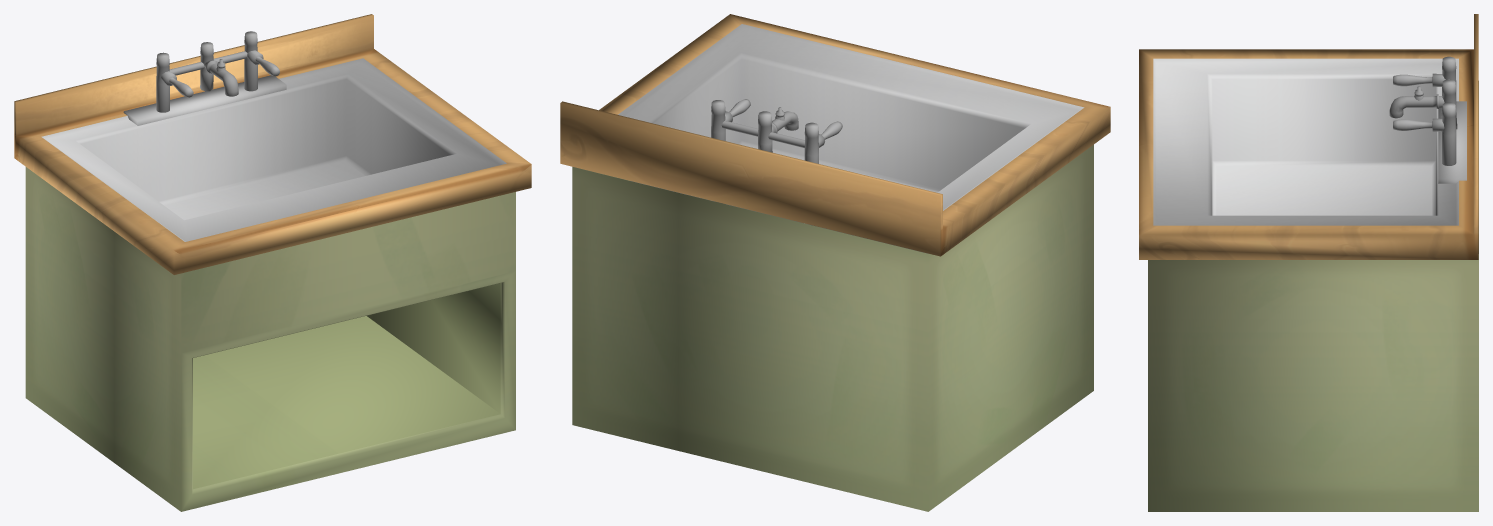
The model's file is CounterSink.fbx.
3 renders of one model, left to right at view 1: azimuth 30°, elevation 25°; view 2: azimuth 150°, elevation 25°; view 3: azimuth 270°, elevation 25°, orthographic. The views are drawn at different scales.
Visible parts, largest first — view 1: CounterSink; view 2: CounterSink; view 3: CounterSink.
Part boxes in pixels (x1,y1,x2,y2): CounterSink: [14, 14, 531, 511]; CounterSink: [560, 14, 1110, 511]; CounterSink: [1139, 14, 1478, 511].
Size of the model in its own units: 113 by 97.52 by 87.58.
